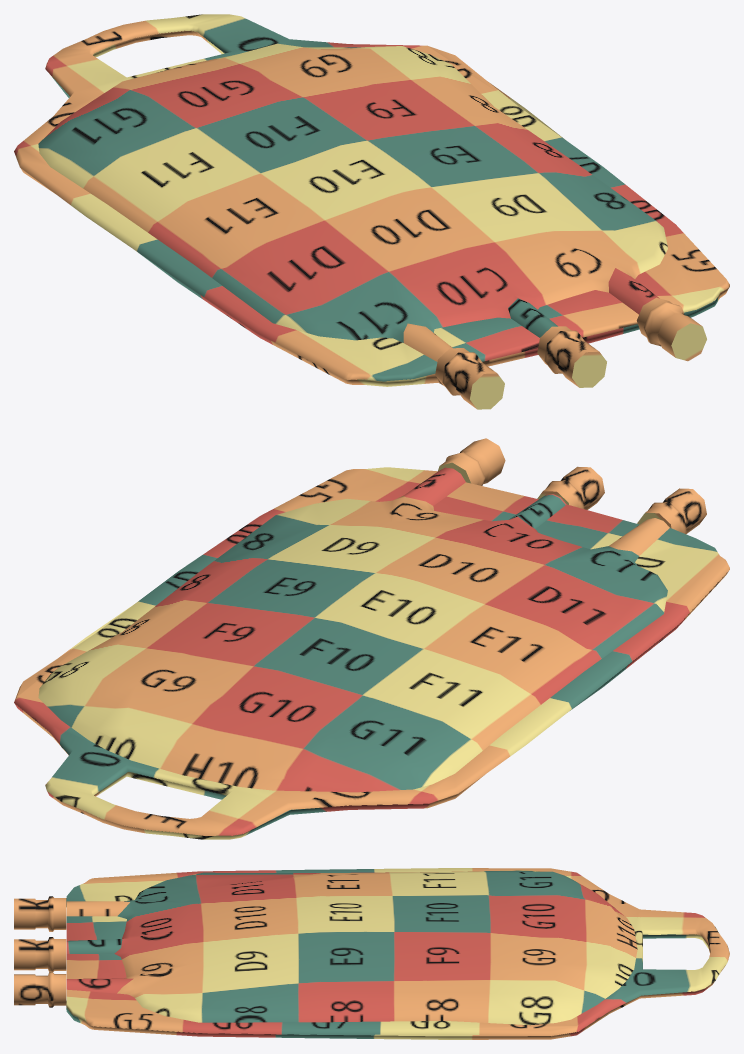
Rendered from SM_BloodBag_01a.fbx.
3 views of the same model, one above another, from view 1: azimuth 30°, elevation 25°; view 2: azimuth 150°, elevation 25°; view 3: azimuth 270°, elevation 25° (orthographic). The views are drawn at different scales.
Visible parts, largest first — view 1: SM_BloodBag_01a; view 2: SM_BloodBag_01a; view 3: SM_BloodBag_01a.
Boxes of the visible parts, x1,y1,x2,y2 form: SM_BloodBag_01a: (14, 14, 729, 409); SM_BloodBag_01a: (14, 438, 729, 839); SM_BloodBag_01a: (14, 868, 729, 1039).
Bounding box in the file's own units: 19.18 × 3.71 × 35.13.
Materials: 1 (1 with a texture image).
